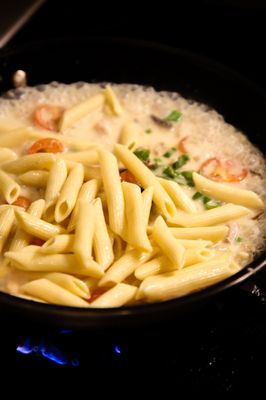sushi: (0, 75, 264, 310)
